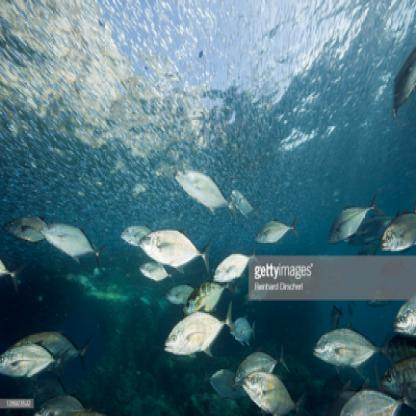Bio: (163, 298, 238, 356), (138, 222, 211, 278), (38, 214, 106, 272), (311, 316, 391, 365), (322, 184, 384, 246), (0, 336, 68, 384), (171, 158, 226, 210), (212, 240, 260, 293), (240, 371, 298, 413), (252, 207, 303, 251)
